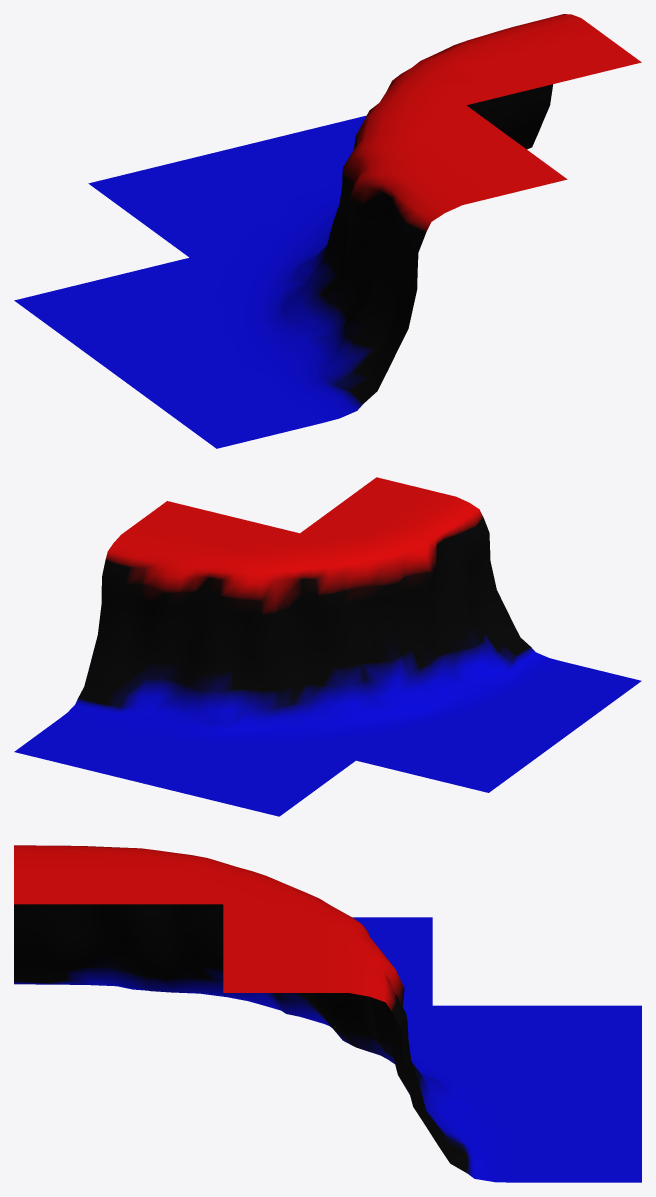
Rendered from RiveCliff04A Foreground.fbx.
3 views of the same model, one above another, from view 1: azimuth 30°, elevation 25°; view 2: azimuth 150°, elevation 25°; view 3: azimuth 270°, elevation 25° (orthographic). The views are drawn at different scales.
Parts seen in each view (by area): view 1: RiveCliff04A Foreground; view 2: RiveCliff04A Foreground; view 3: RiveCliff04A Foreground.
Part boxes in pixels (x1,y1,x2,y2): RiveCliff04A Foreground: [14, 14, 641, 448]; RiveCliff04A Foreground: [14, 477, 641, 816]; RiveCliff04A Foreground: [14, 845, 641, 1182].
Bounding box in the file's own units: 3 × 1 × 3.
